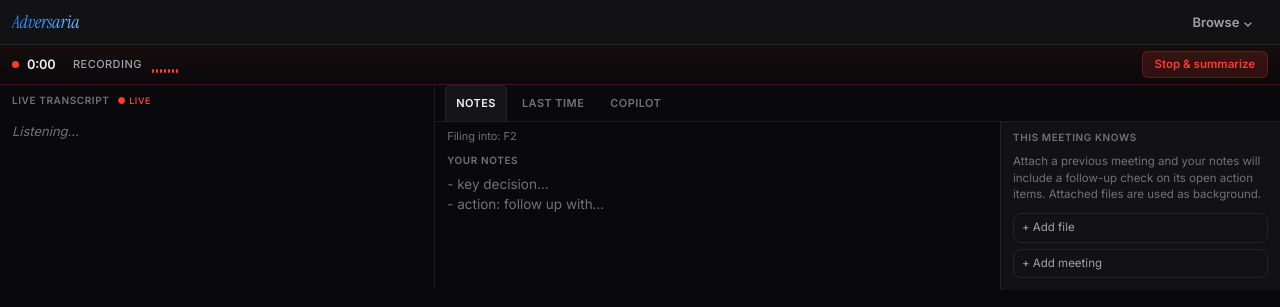
Scenario: RecordingCompanion folderWebEnabled from brief › A-to-B switch with out-of-order brief keeps B's value (safe reset)
The image size is (1280, 307).
Click the tab "Last time": click(553, 103) [511,85,595,121]
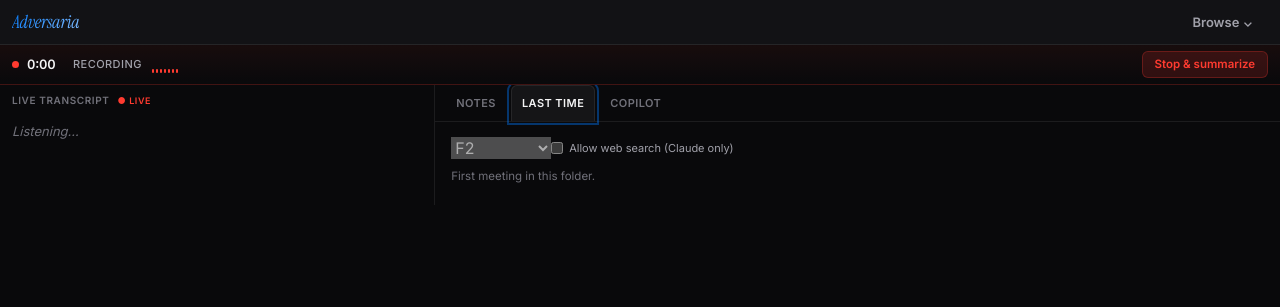
Expected: the checkbox labelled "Allow web search (Claude only)" is not checked, [551,142,563,154]
